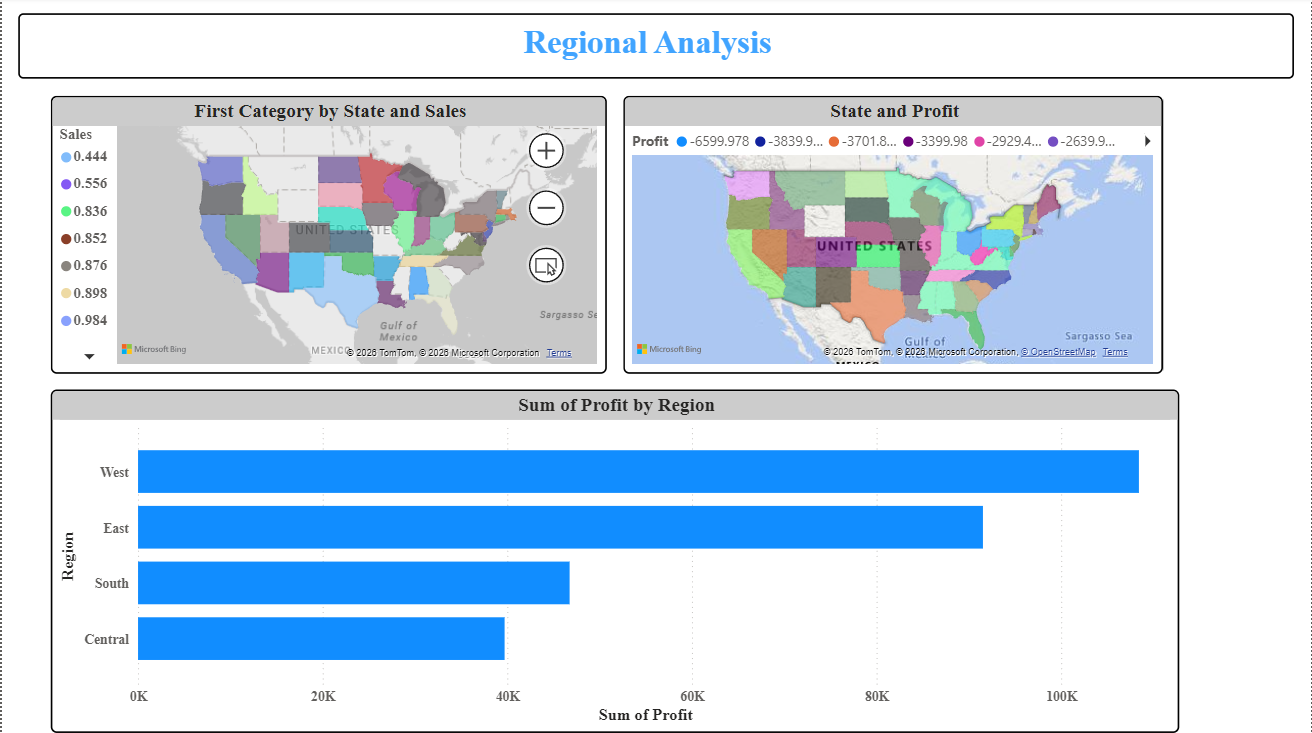

The dashboard page shown, as its layout file describes it:
{"tool":"powerbi","page":{"name":"Regional Analysis","canvas":[1280,720],"ordinal":3},"visuals":[{"type":"filledMap","fields":{"Category":["CleanedSuperstore.State"],"Series":["CleanedSuperstore.Profit"]},"box":[608,96,528,272],"z":0},{"type":"barChart","fields":{"Category":["CleanedSuperstore.Region"],"Y":["Sum(CleanedSuperstore.Profit)"]},"box":[48,384,1104,336],"z":1000},{"type":"filledMap","fields":{"Category":["CleanedSuperstore.State"],"Series":["CleanedSuperstore.Sales"]},"box":[48,96,544,272],"z":2000},{"type":"textbox","box":[16,16,1248,64],"z":3000}]}

Visuals, with their boxes in screenshot pixels (x1, y1, x2, y2), scaled from the page's 1280x720 canvas onto the 1312x733 screenshot:
filledMap - CleanedSuperstore.State x CleanedSuperstore.Profit: [left=623, top=98, right=1164, bottom=375]
barChart - CleanedSuperstore.Region x Sum(CleanedSuperstore.Profit): [left=49, top=391, right=1181, bottom=732]
filledMap - CleanedSuperstore.State x CleanedSuperstore.Sales: [left=49, top=98, right=607, bottom=375]
textbox: [left=16, top=16, right=1296, bottom=81]
